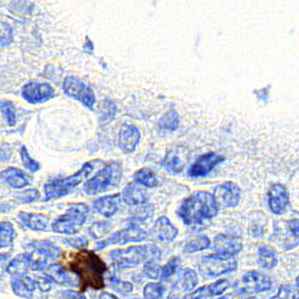Lymphocyte: (70, 247, 108, 294)
